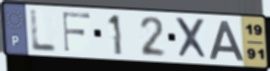1: (106, 13, 124, 56)
2: (138, 15, 168, 57)
A: (208, 19, 246, 63)
F: (61, 11, 93, 54)
L: (29, 8, 60, 54)
X: (173, 16, 211, 62)
